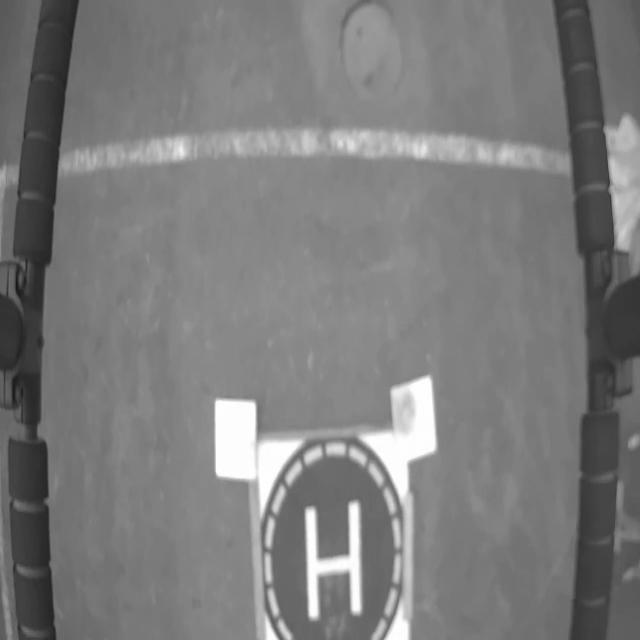Helipad: (304, 501, 362, 622)
